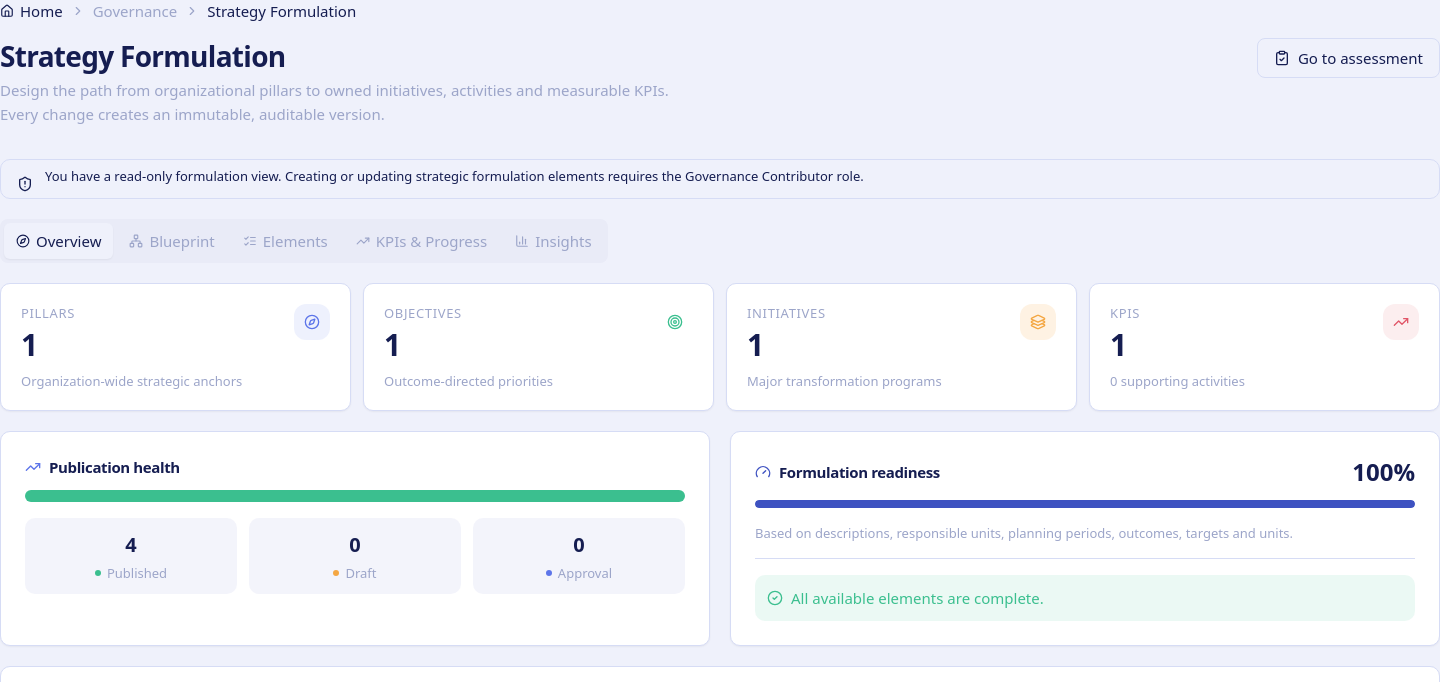
Scenario: StrategyFormulation API workspace › prevents read-only viewers from recording KPI progress
The width and height of the screenshot is (1440, 682).
Press the mouse on the tab "KPIs & Progress" at (422, 241), box left=344, top=223, right=499, bottom=259
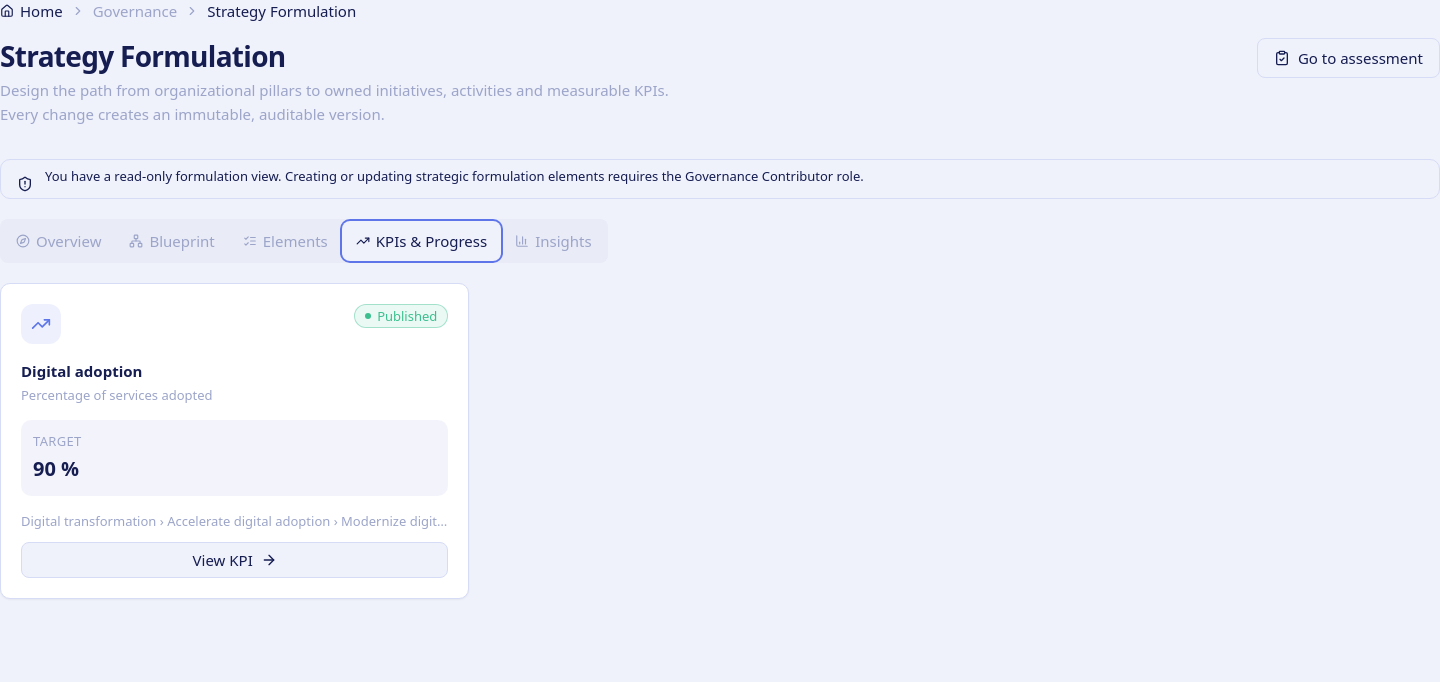
Click the button "View KPI" at (235, 560), box left=21, top=542, right=448, bottom=578
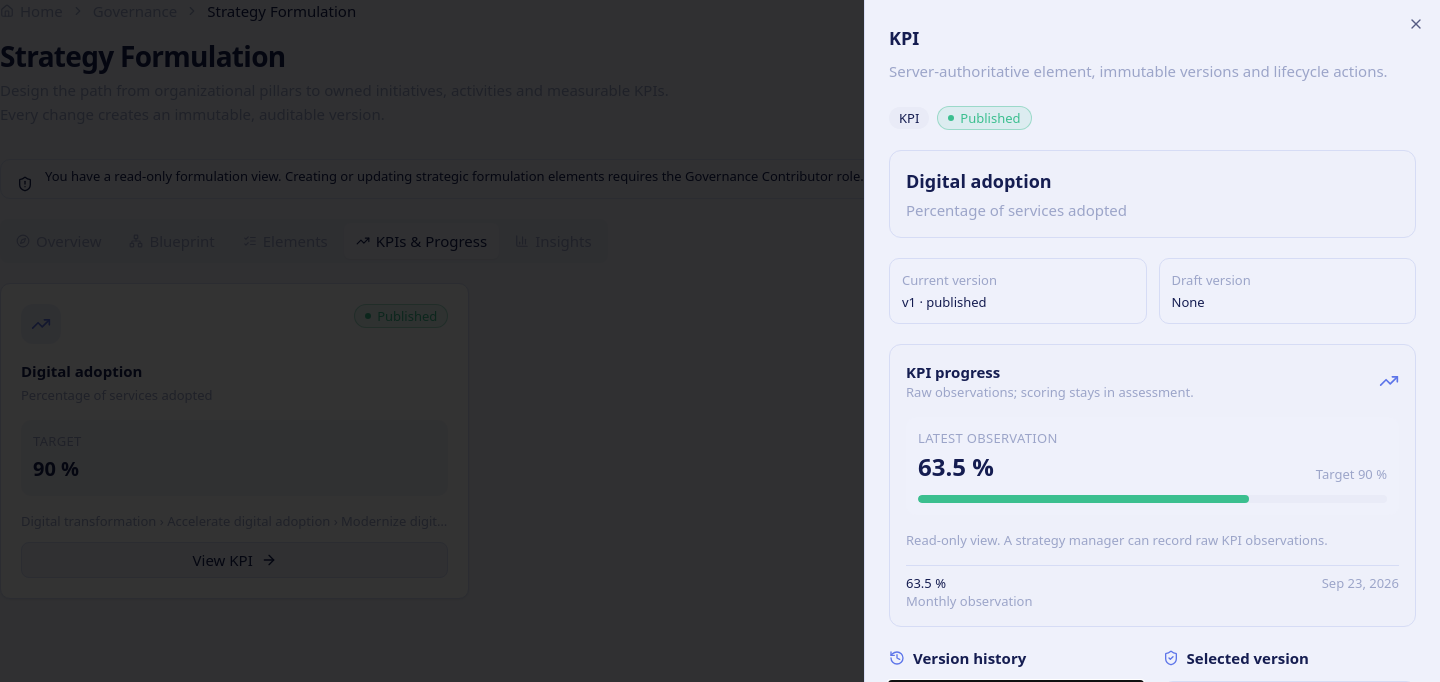
Result: the text "Read-only view" is shown at left=906, top=531, right=1328, bottom=549
